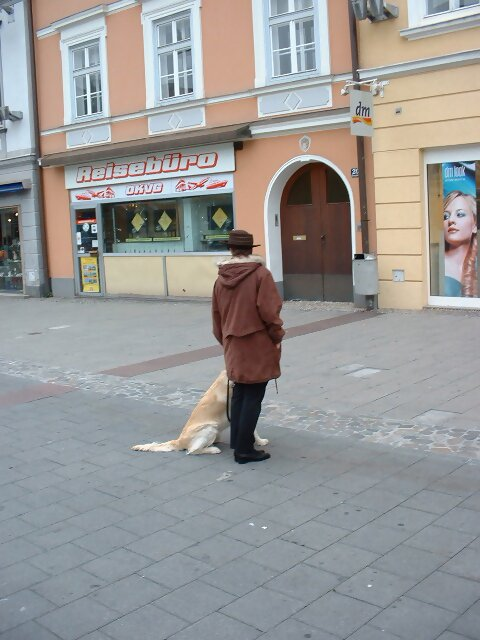person: (210, 223, 296, 465)
